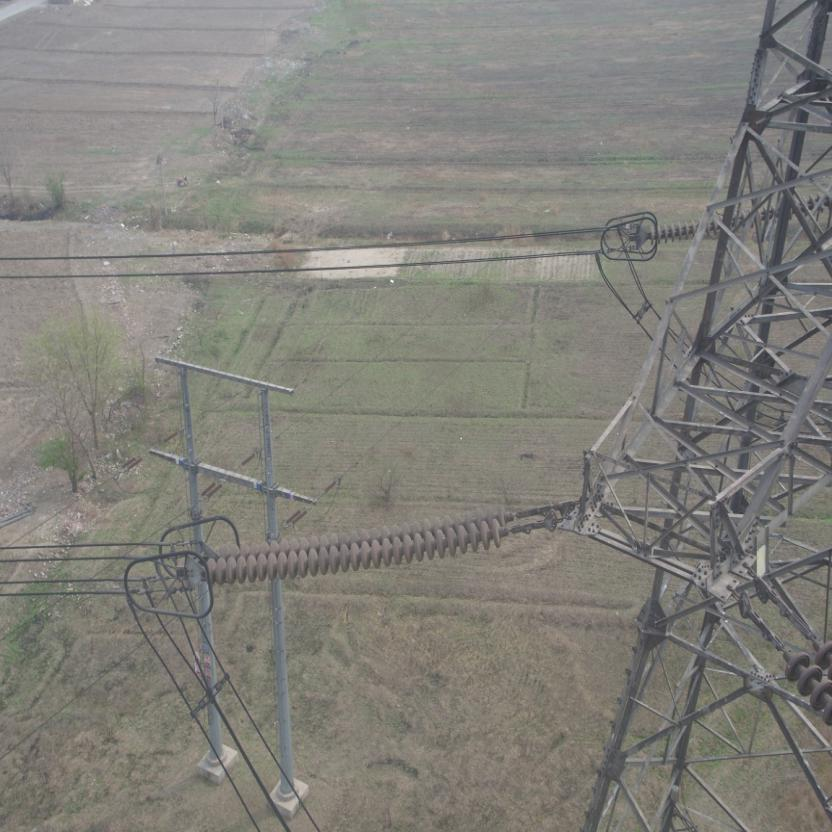insulator: (193, 499, 536, 588)
